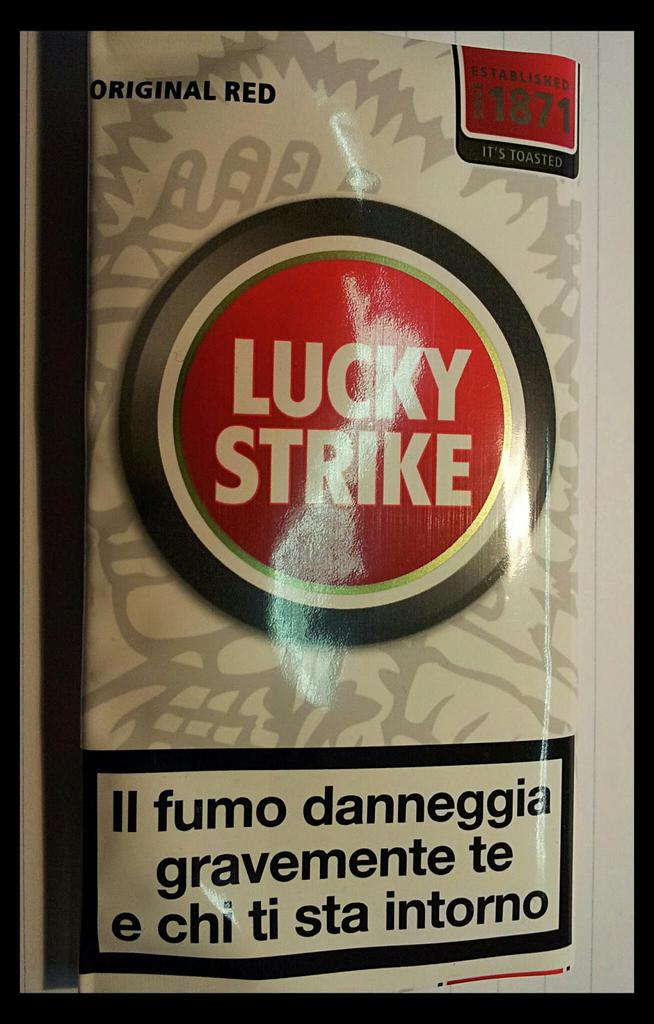lucky_strike_red: (51, 27, 571, 965)
